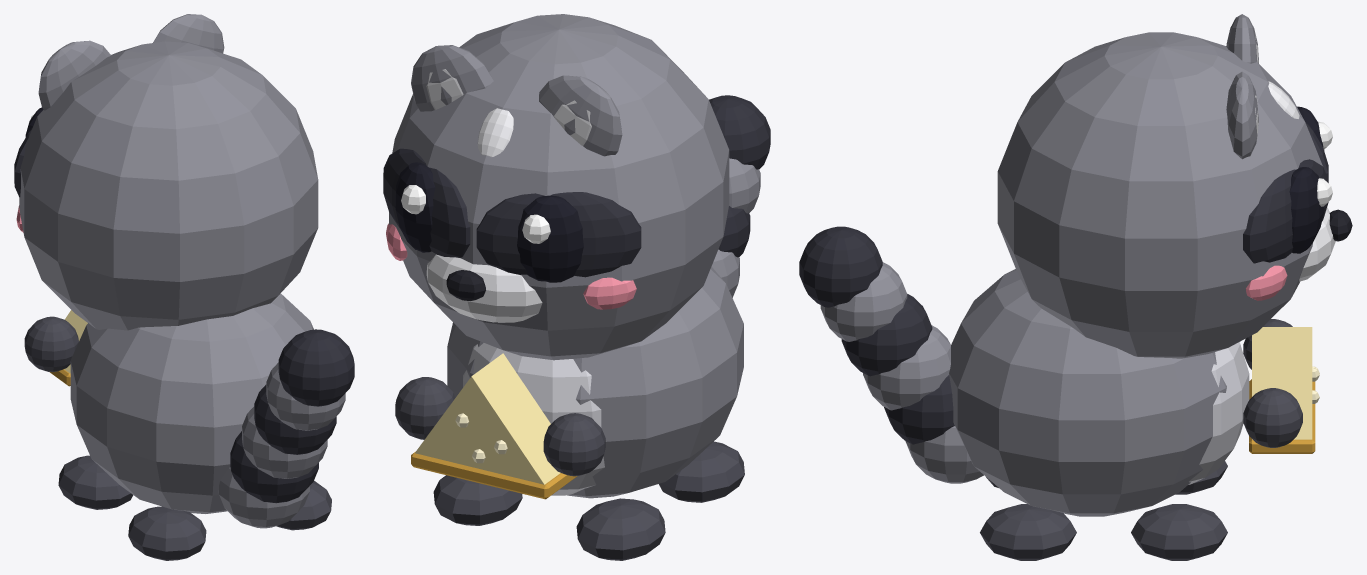
Rendered from ParmesanRaccoon.fbx.
3 views of the same model, side by side, from view 1: azimuth 30°, elevation 25°; view 2: azimuth 150°, elevation 25°; view 3: azimuth 270°, elevation 25° (orthographic). The views are drawn at different scales.
Visible parts, largest first — view 1: Pet_8E8E98, Pet_33333D, Pet_4A4A54; view 2: Pet_8E8E98, Pet_4A4A54, Pet_33333D, Pet_F7E7A8, Pet_F0F0F4, Pet_1E1E2A, Pet_D8D8E0, Pet_D9A43E, Pet_FF9AAE, Pet_FFFFFF, Pet_22222A, Pet_FFF6D2; view 3: Pet_8E8E98, Pet_33333D, Pet_4A4A54, Pet_F7E7A8, Pet_D8D8E0, Pet_1E1E2A, Pet_F0F0F4, Pet_D9A43E, Pet_FF9AAE.
Boxes of the visible parts, box(x1,y1,x2,y2) form: Pet_8E8E98: box(19, 14, 345, 528); Pet_33333D: box(14, 127, 354, 503); Pet_4A4A54: box(24, 316, 331, 560); Pet_8E8E98: box(389, 14, 760, 498); Pet_4A4A54: box(395, 377, 744, 560); Pet_33333D: box(383, 95, 770, 277); Pet_F7E7A8: box(415, 353, 560, 484); Pet_F0F0F4: box(426, 69, 591, 322); Pet_1E1E2A: box(395, 162, 583, 282); Pet_D8D8E0: box(463, 343, 604, 495); Pet_D9A43E: box(411, 451, 577, 499); Pet_FF9AAE: box(386, 223, 636, 309); Pet_FFFFFF: box(401, 185, 550, 243); Pet_22222A: box(446, 270, 485, 300); Pet_FFF6D2: box(455, 413, 507, 463); Pet_8E8E98: box(820, 14, 1322, 516); Pet_33333D: box(799, 122, 1328, 444); Pet_4A4A54: box(980, 319, 1302, 560); Pet_F7E7A8: box(1252, 327, 1312, 439); Pet_D8D8E0: box(1188, 342, 1249, 484); Pet_1E1E2A: box(1289, 106, 1324, 253); Pet_F0F0F4: box(1255, 35, 1335, 281); Pet_D9A43E: box(1249, 379, 1315, 453); Pet_FF9AAE: box(1246, 265, 1287, 300).
Bounding box in the file's own units: 1.06 × 1.74 × 1.83.
